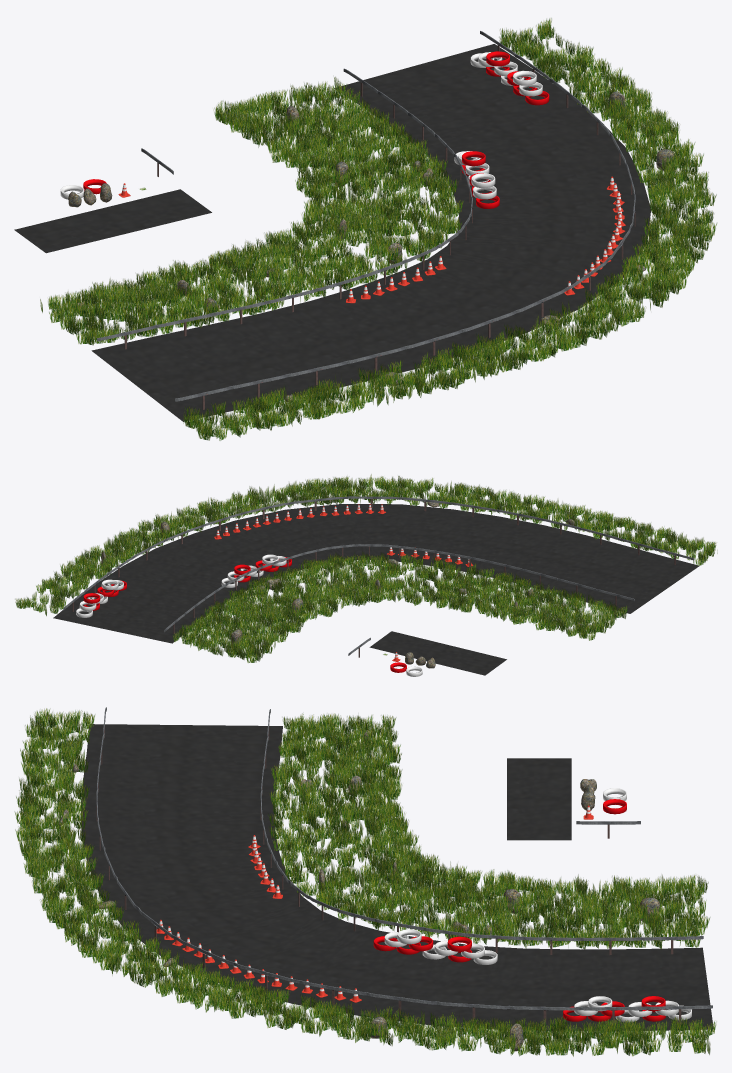
The model's file is road_assets_low_poly.glb.
3 views of the same model, one above another, from view 1: azimuth 30°, elevation 25°; view 2: azimuth 150°, elevation 25°; view 3: azimuth 270°, elevation 25° (orthographic). The views are drawn at different scales.
Visible parts, largest first — view 1: Grass.433_4, Road.001_1, Road_11, Fence.002_2, Fence.001_3, Rock3.001_8, Tyre White.001_7, Traffic Cone.001_5, Tyre Red.001_6; view 2: Grass.433_4, Road.001_1, Road_11, Fence.002_2, Fence.001_3, Tyre White.001_7, Traffic Cone.001_5, Rock3.001_8, Tyre Red.001_6; view 3: Grass.433_4, Road.001_1, Road_11, Fence.002_2, Tyre White.001_7, Fence.001_3, Rock3.001_8, Tyre Red.001_6, Traffic Cone.001_5.
Part boxes in pixels (x1,y1,x2,y2): Grass.433_4: [40, 18, 716, 440]; Road.001_1: [91, 44, 650, 421]; Road_11: [14, 189, 211, 253]; Fence.002_2: [175, 31, 635, 409]; Fence.001_3: [97, 68, 472, 349]; Rock3.001_8: [76, 91, 673, 401]; Tyre White.001_7: [454, 52, 542, 199]; Traffic Cone.001_5: [346, 176, 625, 303]; Tyre Red.001_6: [461, 51, 549, 208]; Grass.433_4: [15, 474, 717, 662]; Road.001_1: [53, 504, 699, 643]; Road_11: [369, 631, 506, 675]; Fence.002_2: [63, 496, 693, 611]; Fence.001_3: [164, 544, 634, 633]; Tyre White.001_7: [76, 554, 286, 617]; Traffic Cone.001_5: [214, 504, 472, 566]; Rock3.001_8: [101, 496, 637, 645]; Tyre Red.001_6: [83, 557, 291, 610]; Grass.433_4: [14, 708, 716, 1056]; Road.001_1: [81, 724, 713, 1031]; Road_11: [507, 758, 571, 840]; Fence.002_2: [96, 707, 712, 1024]; Tyre White.001_7: [384, 929, 691, 1022]; Fence.001_3: [260, 709, 703, 954]; Rock3.001_8: [59, 730, 659, 1051]; Tyre Red.001_6: [373, 936, 665, 1021]; Traffic Cone.001_5: [156, 835, 361, 1002].
Size of the model in its own units: 99.08 by 3.83 by 87.15.
Materials: 4 (4 with a texture image).
